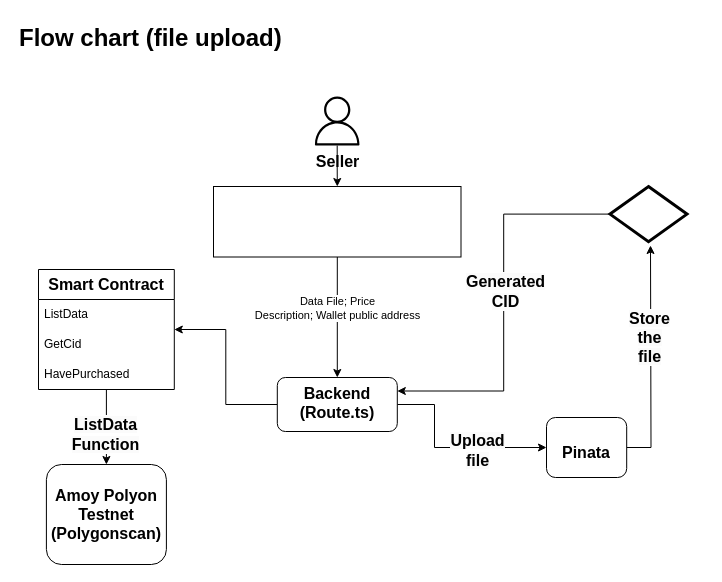
Some shapes in this 722 by 582 pixel diagram are drawn without their labels. Here are the shapes that lost their labels. From the top down, the box of each, then its label:
(212, 186, 461, 257): DataMarketPlace User interface (Powered by Next.js)
(608, 184, 688, 243): IPFS
